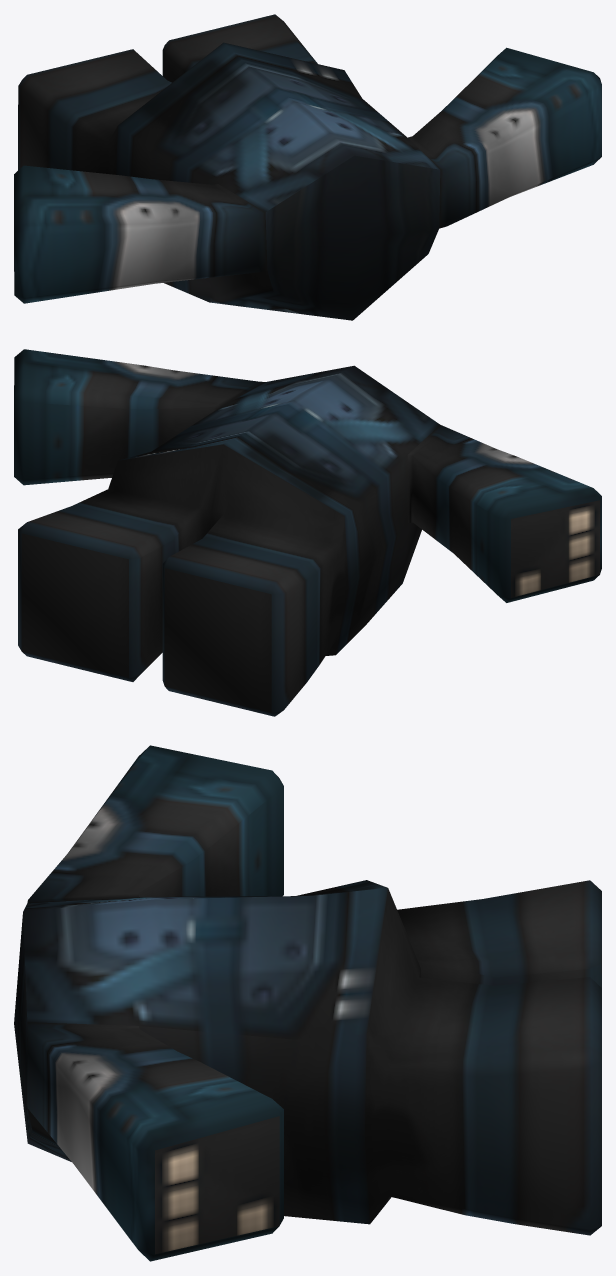
File: Avatar_Swat_H_01_Body_4_15e51719__Avatar_Swat_C_e19fe5cc_c1f257.obj
3 renders of one model, top to bottom at view 1: azimuth 30°, elevation 25°; view 2: azimuth 150°, elevation 25°; view 3: azimuth 270°, elevation 25°, orthographic. The views are drawn at different scales.
Bounding box in the file's own units: 1.41 × 0.504 × 0.882.
1 material, 1 textured.
